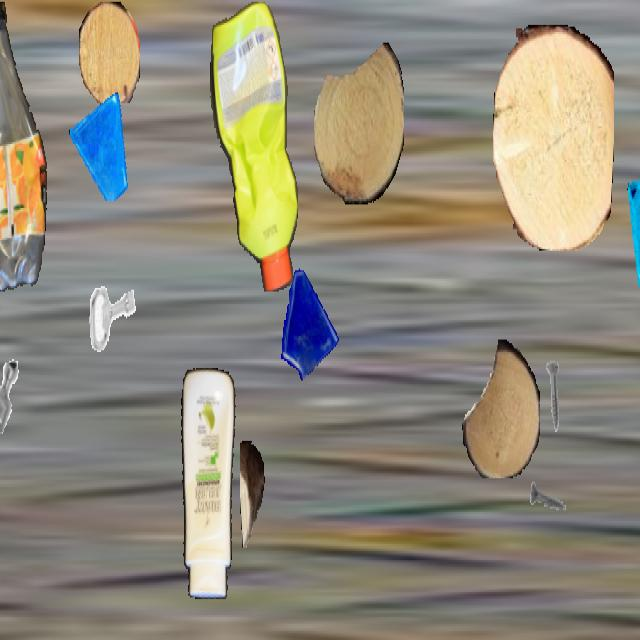glass: (275, 263, 341, 381), (69, 89, 131, 199), (624, 176, 640, 290)
metal: (81, 263, 141, 370), (533, 359, 575, 434), (529, 459, 571, 533), (0, 347, 31, 446)
plastic: (209, 2, 299, 290), (174, 368, 238, 599), (0, 2, 49, 290)
wood: (493, 25, 613, 249), (314, 41, 404, 204), (462, 340, 540, 478), (79, 2, 139, 105), (240, 441, 264, 547)
